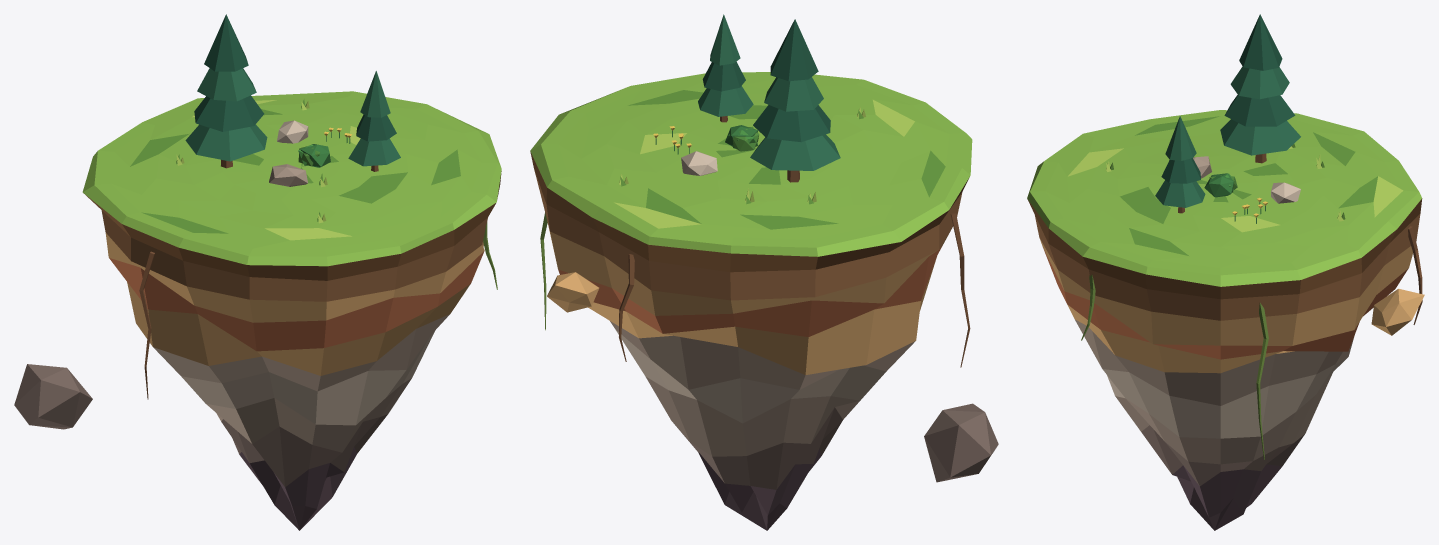
File: islet_c.glb
The picture shows the model from 3 angles, left to right: view 1: azimuth 30°, elevation 25°; view 2: azimuth 150°, elevation 25°; view 3: azimuth 270°, elevation 25°; orthographic projection. The views are drawn at different scales.
Parts seen in each view (by area): view 1: Island-col, Dressing, Debris, Roots; view 2: Island-col, Dressing, Debris, Roots; view 3: Island-col, Dressing, Debris, Roots.
Boxes of the visible parts, bbox=[...] form: Island-col: bbox=[82, 91, 501, 530]; Dressing: bbox=[176, 14, 400, 223]; Debris: bbox=[14, 364, 92, 429]; Roots: bbox=[139, 222, 497, 399]; Island-col: bbox=[530, 72, 972, 530]; Dressing: bbox=[619, 14, 865, 204]; Debris: bbox=[547, 272, 998, 482]; Roots: bbox=[540, 212, 970, 367]; Island-col: bbox=[1027, 110, 1422, 530]; Dressing: bbox=[1106, 14, 1345, 223]; Debris: bbox=[1371, 288, 1424, 335]; Roots: bbox=[1081, 226, 1422, 459].
Size of what is drawn, in the model's own units: 24.79 by 27.48 by 20.08.
